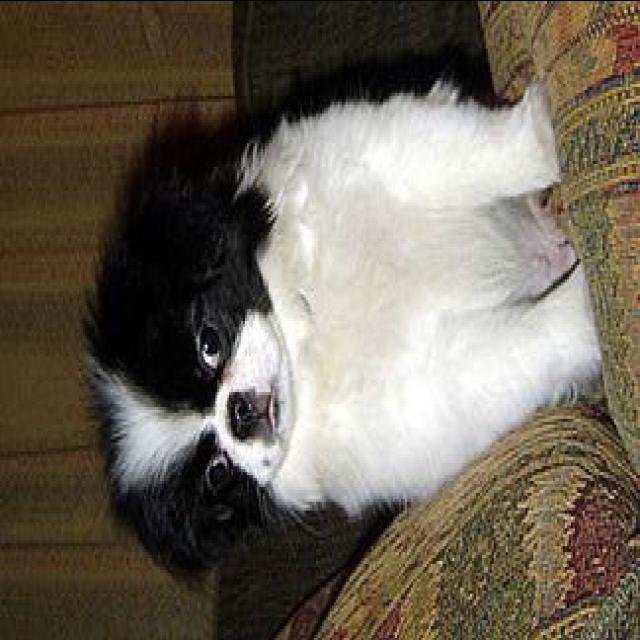husky: (85, 81, 604, 598)
